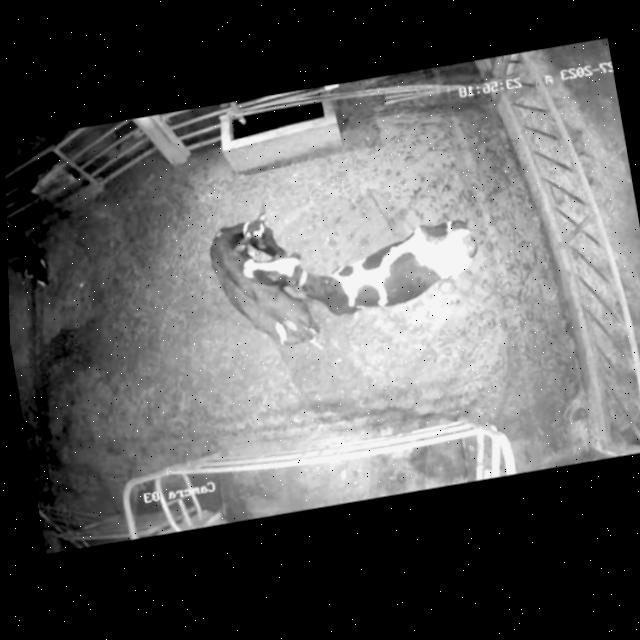propping: (230, 243, 337, 317)
stand: (184, 195, 335, 379)
